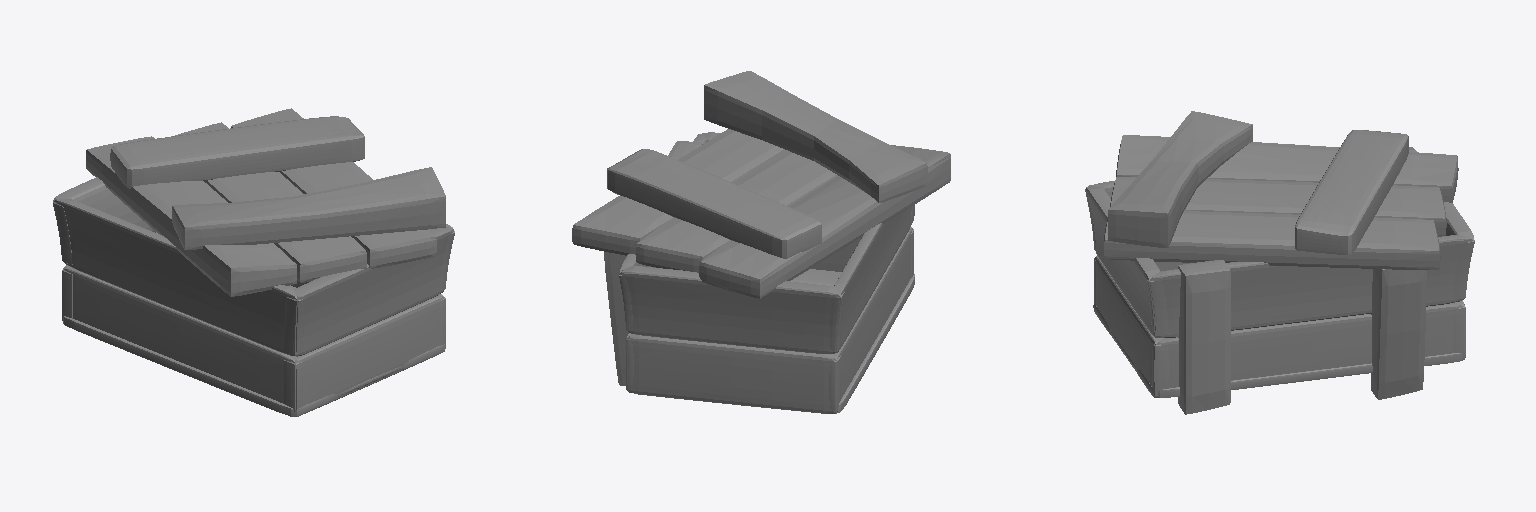
File: crate2.obj
3 views of the same model, side by side, from view 1: azimuth 30°, elevation 25°; view 2: azimuth 150°, elevation 25°; view 3: azimuth 270°, elevation 25° (orthographic).
Visible parts, largest first — view 1: Box4903; view 2: Box4903; view 3: Box4903.
Boxes of the visible parts, x1,y1,x2,y2 form: Box4903: [53, 108, 454, 416]; Box4903: [572, 71, 950, 413]; Box4903: [1085, 111, 1474, 414].
Size of the model in its own units: 10.13 by 7.06 by 12.37.